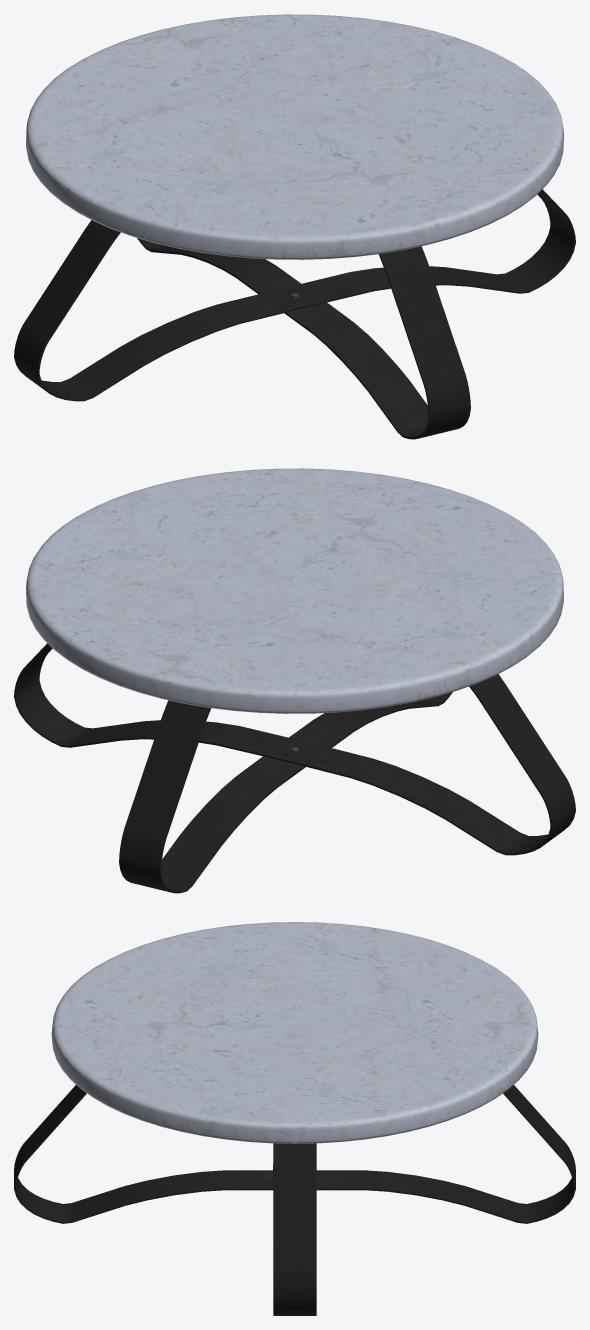
The model's file is coffee_table_round_01_2k.gltf.
3 views of the same model, one above another, from view 1: azimuth 30°, elevation 25°; view 2: azimuth 150°, elevation 25°; view 3: azimuth 270°, elevation 25° (orthographic). The views are drawn at different scales.
Parts seen in each view (by area): view 1: coffee_table_round_01; view 2: coffee_table_round_01; view 3: coffee_table_round_01.
Boxes of the visible parts, left/top/right/bottom form: coffee_table_round_01: left=14, top=14, right=575, bottom=439; coffee_table_round_01: left=14, top=468, right=575, bottom=893; coffee_table_round_01: left=14, top=922, right=575, bottom=1315.
Bounding box in the file's own units: 1.3 × 0.491 × 1.3.
1 material, 1 textured.
